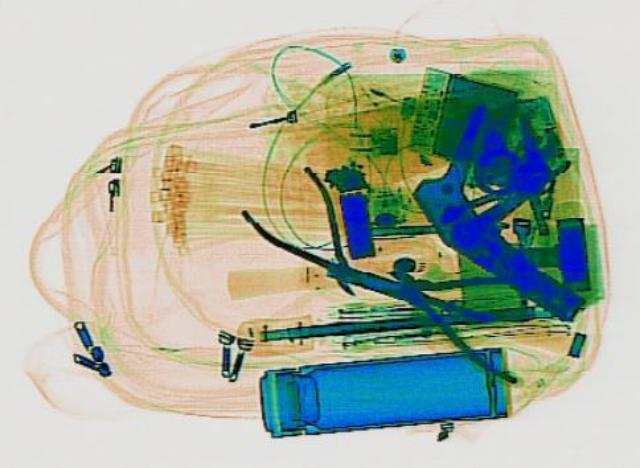Pliers: (344, 229, 592, 383), (223, 163, 401, 305)
